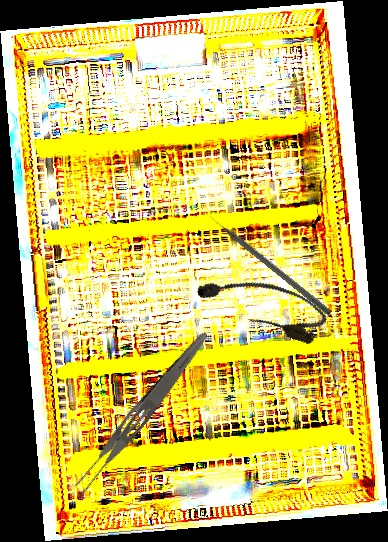Cannula: (192, 260, 332, 348)
Dressing Forceps: (69, 324, 213, 500)
Hook Surgical: (207, 212, 334, 316)
